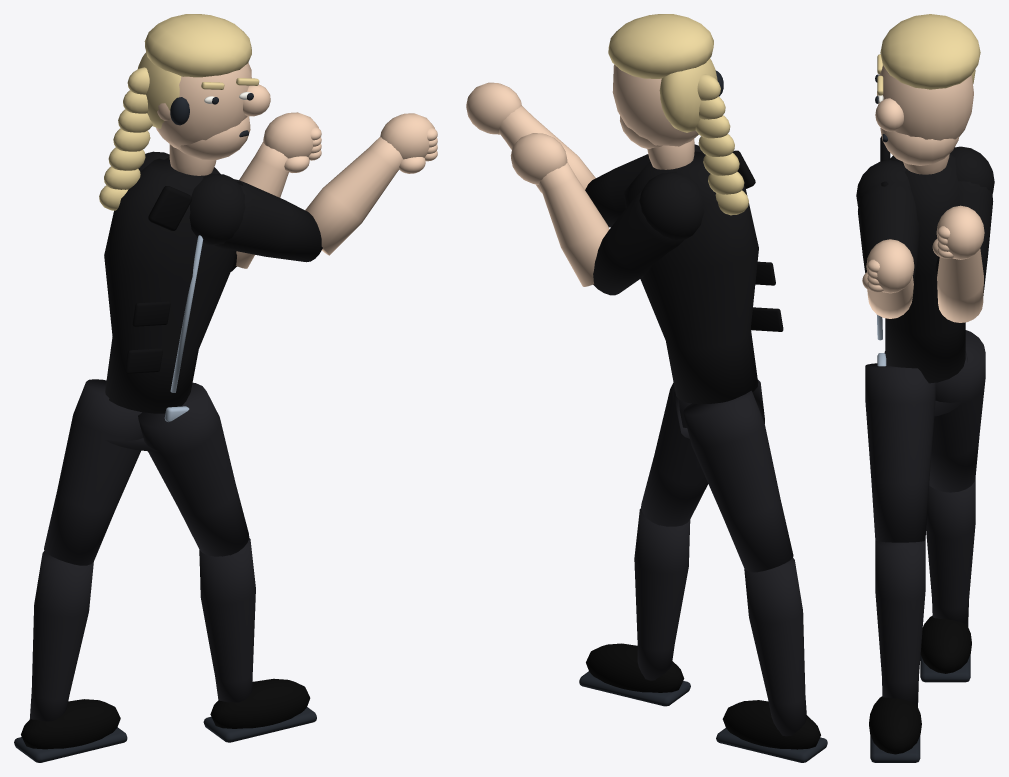
Rendered from nadine.glb.
3 renders of one model, left to right at view 1: azimuth 30°, elevation 25°; view 2: azimuth 150°, elevation 25°; view 3: azimuth 270°, elevation 25°, orthographic.
Parts seen in each view (by area): view 1: Fitted torso.007, Trouser thigh.015, Trouser thigh.014, Lower leg.015, Lower leg.014, Hair crown.006, Forearm.014, Upper arm.014, Head.007, Boot.014, Boot.015, Rounded shoulder.014 (+12 smaller); view 2: Fitted torso.007, Trouser thigh.015, Lower leg.015, Lower leg.014, Hair crown.006, Trouser thigh.014, Forearm.015, Upper arm.015, Rounded shoulder.015, Head.007, Boot.014, Boot.015 (+14 smaller); view 3: Trouser thigh.014, Fitted torso.007, Lower leg.014, Trouser thigh.015, Hair crown.006, Lower leg.015, Head.007, Upper arm.014, Forearm.015, Boot.014, Boot.015, Closed fist.014 (+11 smaller).
Boxes of the visible parts, bbox=[...] form: Fitted torso.007: bbox=[104, 157, 235, 413]; Trouser thigh.015: bbox=[44, 379, 143, 565]; Trouser thigh.014: bbox=[138, 382, 249, 556]; Lower leg.015: bbox=[29, 551, 93, 721]; Lower leg.014: bbox=[199, 538, 255, 702]; Hair crown.006: bbox=[144, 14, 251, 77]; Forearm.014: bbox=[305, 137, 402, 255]; Upper arm.014: bbox=[215, 179, 322, 262]; Head.007: bbox=[156, 63, 251, 149]; Boot.014: bbox=[210, 678, 310, 728]; Boot.015: bbox=[21, 699, 120, 749]; Rounded shoulder.014: bbox=[189, 173, 245, 245]; Fitted torso.007: bbox=[624, 151, 758, 404]; Trouser thigh.015: bbox=[683, 390, 793, 572]; Lower leg.015: bbox=[744, 558, 806, 736]; Lower leg.014: bbox=[634, 508, 690, 680]; Hair crown.006: bbox=[608, 14, 713, 78]; Trouser thigh.014: bbox=[641, 382, 708, 526]; Forearm.015: bbox=[539, 162, 609, 286]; Upper arm.015: bbox=[593, 188, 683, 295]; Rounded shoulder.015: bbox=[639, 171, 704, 240]; Head.007: bbox=[612, 64, 698, 146]; Boot.014: bbox=[586, 643, 684, 692]; Boot.015: bbox=[722, 700, 820, 749]; Trouser thigh.014: bbox=[865, 363, 935, 542]; Fitted torso.007: bbox=[885, 151, 965, 383]; Lower leg.014: bbox=[875, 540, 925, 706]; Trouser thigh.015: bbox=[929, 330, 985, 492]; Hair crown.006: bbox=[880, 14, 980, 89]; Lower leg.015: bbox=[926, 478, 975, 626]; Head.007: bbox=[877, 65, 973, 140]; Upper arm.014: bbox=[858, 181, 920, 283]; Forearm.015: bbox=[937, 249, 983, 322]; Boot.014: bbox=[869, 696, 921, 754]; Boot.015: bbox=[920, 615, 971, 673]; Closed fist.014: bbox=[866, 239, 914, 293].
Size of the model in its own units: 87.55 by 154 by 27.6.
